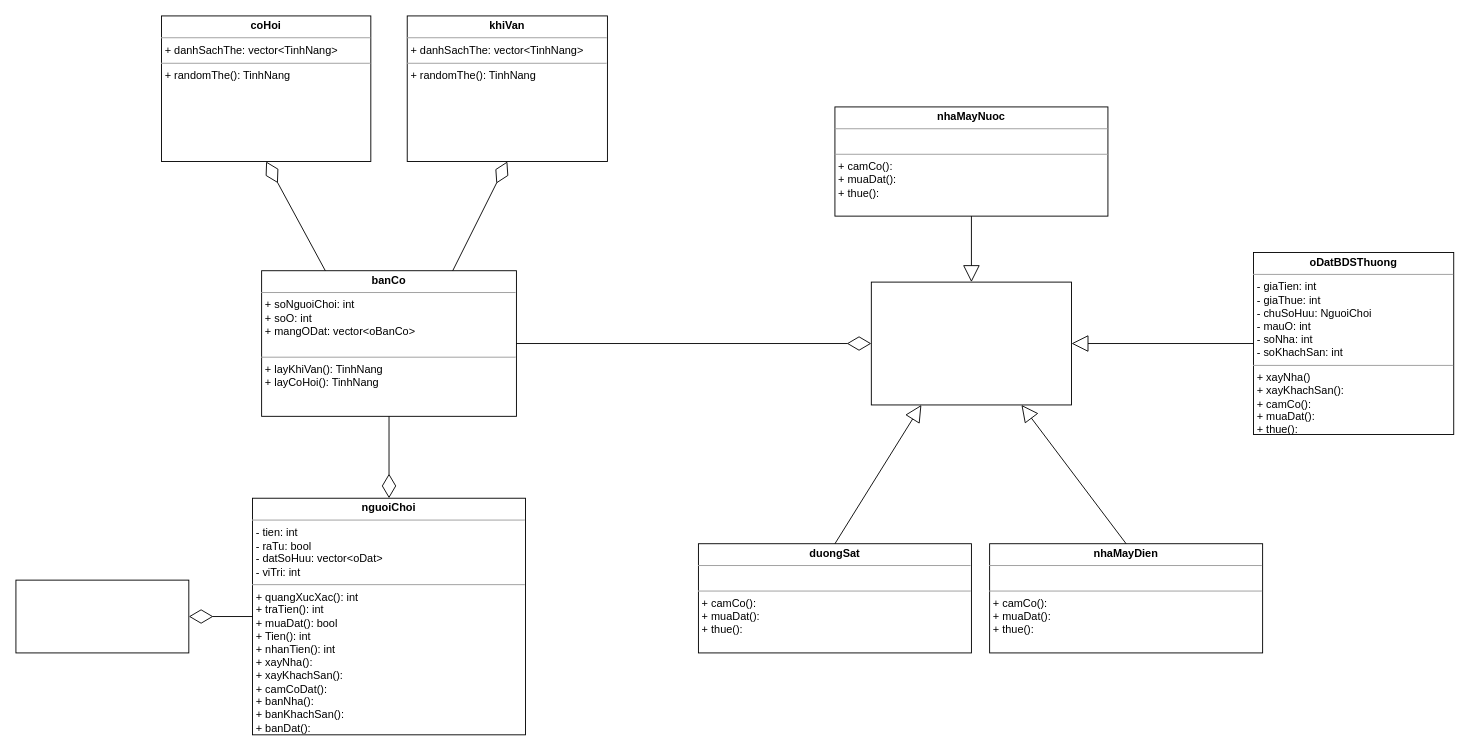
This 1470x751 diagram has some shape labels left out. The centre of each missing label's shape, as x and y in pixels:
oBanCo + giaTien(): + chuSoHuu(): + vanBanO(): + soNguoiChoi():: (971,343)
xucXac + XucXac(): int: (102,616)
